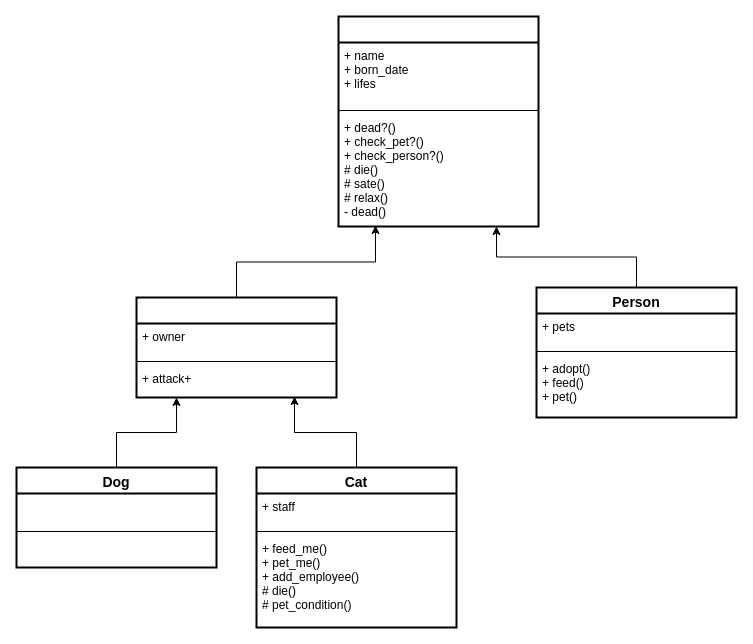
Some shapes in this 753 by 644 pixel diagram are drawn without their labels. The shapes that lost their labels are listed below. From the top down, each one's box as (x1, y1, x2, y2) in pixels, then its label:
(337, 15, 539, 227): Nature
(135, 296, 337, 398): Pet
